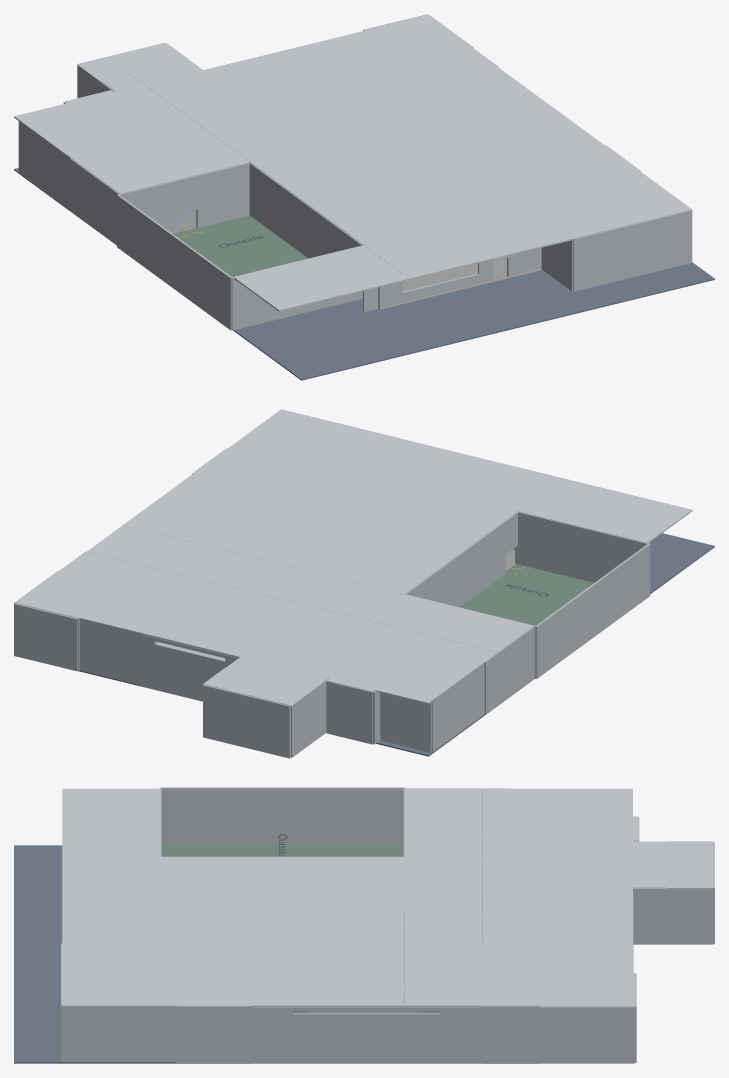
Rendered from school_blockout.glb.
3 renders of one model, top to bottom at view 1: azimuth 30°, elevation 25°; view 2: azimuth 150°, elevation 25°; view 3: azimuth 270°, elevation 25°, orthographic. The views are drawn at different scales.
Parts seen in each view (by area): view 1: Interior Roof Shell, School Site Floor - circulation, Main Office - South Wall, Outside - West Wall, Outside - East Wall, Outside Floor, Outside - North Wall, Lobby - South Wall, Locker Room - West Wall, Gym - West Wall, Outside - South Wall, Auditorium North Roof Extension (+4 smaller); view 2: Interior Roof Shell, Outside - West Wall, Outside - South Wall, Auditorium - North Wall, Outside Floor, School - North Exterior Wall, Outside - East Wall, Cafeteria - North Wall, Bathroom - North Wall, Locker Room - West Wall, Gym - West Wall, School Site Floor - circulation (+4 smaller); view 3: Interior Roof Shell, Outside - West Wall, School - East Exterior Wall, School Site Floor - circulation, Cafeteria - East Wall, Auditorium - East Wall, Classroom E - East Wall, Main Office - East Wall, Classroom B - East Wall, Outside Floor, Nurse Office - East Wall, Auditorium North Roof Extension.
Part boxes in pixels (<box>): Interior Roof Shell: <box>14,14,692,311</box>; School Site Floor - circulation: <box>14,168,714,380</box>; Main Office - South Wall: <box>573,210,691,291</box>; Outside - West Wall: <box>117,194,231,330</box>; Outside - East Wall: <box>249,163,350,258</box>; Outside Floor: <box>173,215,308,276</box>; Outside - North Wall: <box>117,162,249,233</box>; Lobby - South Wall: <box>363,248,541,311</box>; Locker Room - West Wall: <box>19,121,69,208</box>; Gym - West Wall: <box>69,158,118,244</box>; Outside - South Wall: <box>231,245,362,330</box>; Auditorium North Roof Extension: <box>77,43,187,80</box>; Interior Roof Shell: <box>15,409,692,704</box>; Outside - West Wall: <box>535,543,650,678</box>; Outside - South Wall: <box>517,512,649,582</box>; Auditorium - North Wall: <box>203,685,290,758</box>; Outside Floor: <box>460,564,593,625</box>; School - North Exterior Wall: <box>139,634,238,701</box>; Outside - East Wall: <box>405,521,505,607</box>; Cafeteria - North Wall: <box>14,603,78,671</box>; Bathroom - North Wall: <box>80,618,140,684</box>; Locker Room - West Wall: <box>431,664,483,751</box>; Gym - West Wall: <box>485,626,534,714</box>; School Site Floor - circulation: <box>78,533,714,756</box>; Interior Roof Shell: <box>62,788,666,1006</box>; Outside - West Wall: <box>160,787,404,844</box>; School - East Exterior Wall: <box>252,1006,482,1063</box>; School Site Floor - circulation: <box>14,845,539,1063</box>; Cafeteria - East Wall: <box>539,1006,634,1063</box>; Auditorium - East Wall: <box>633,888,712,944</box>; Classroom E - East Wall: <box>177,1006,251,1062</box>; Main Office - East Wall: <box>62,1007,127,1061</box>; Classroom B - East Wall: <box>482,1006,537,1062</box>; Outside Floor: <box>161,844,403,856</box>; Nurse Office - East Wall: <box>130,1007,175,1061</box>; Auditorium North Roof Extension: <box>666,841,712,889</box>.
Size of the model in its own units: 46.09 by 5.67 by 62.09.
